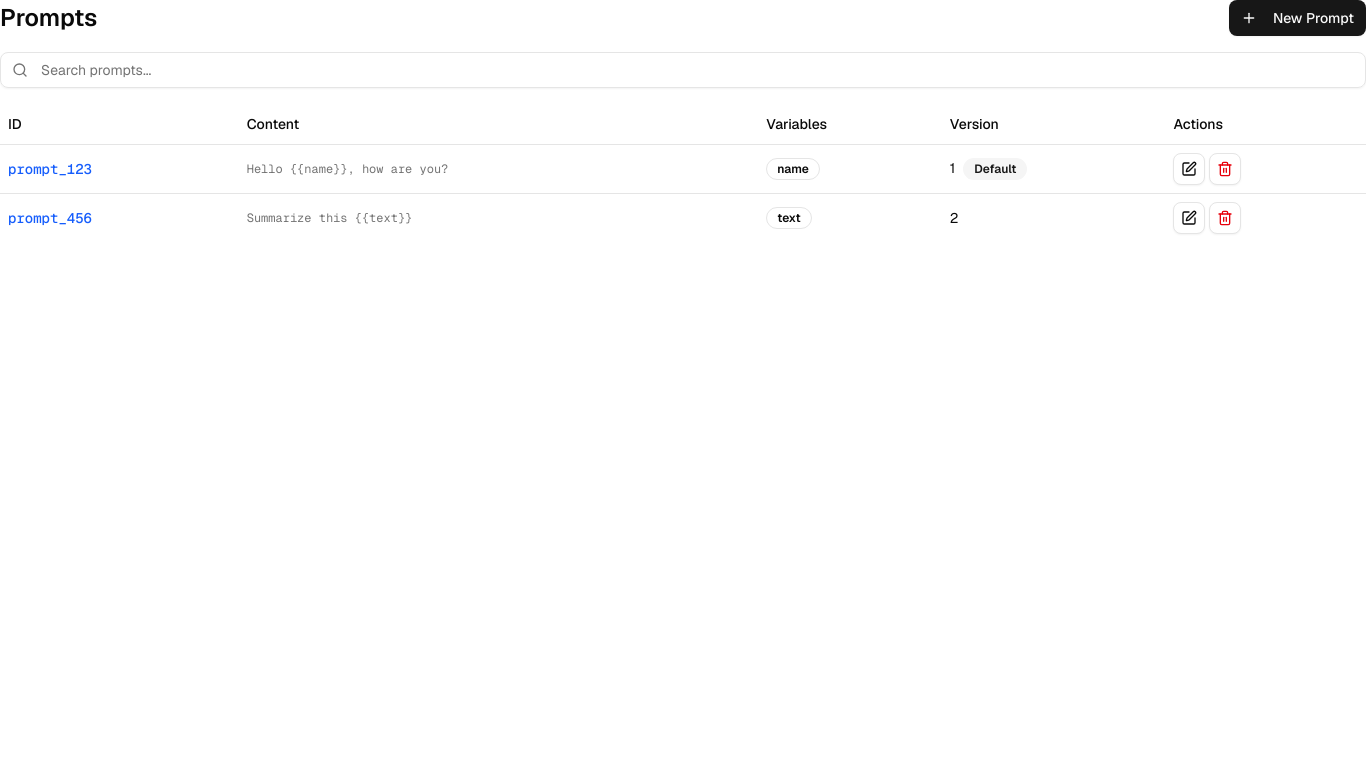
PromptManagement › Prompts List › opens modal when clicking 'New Prompt' button
The width and height of the screenshot is (1366, 768).
Check: the text "prompt_123" is shown, box [8,158,92,178]
Click the button "New Prompt" at (1297, 18), box [1229,0,1365,36]
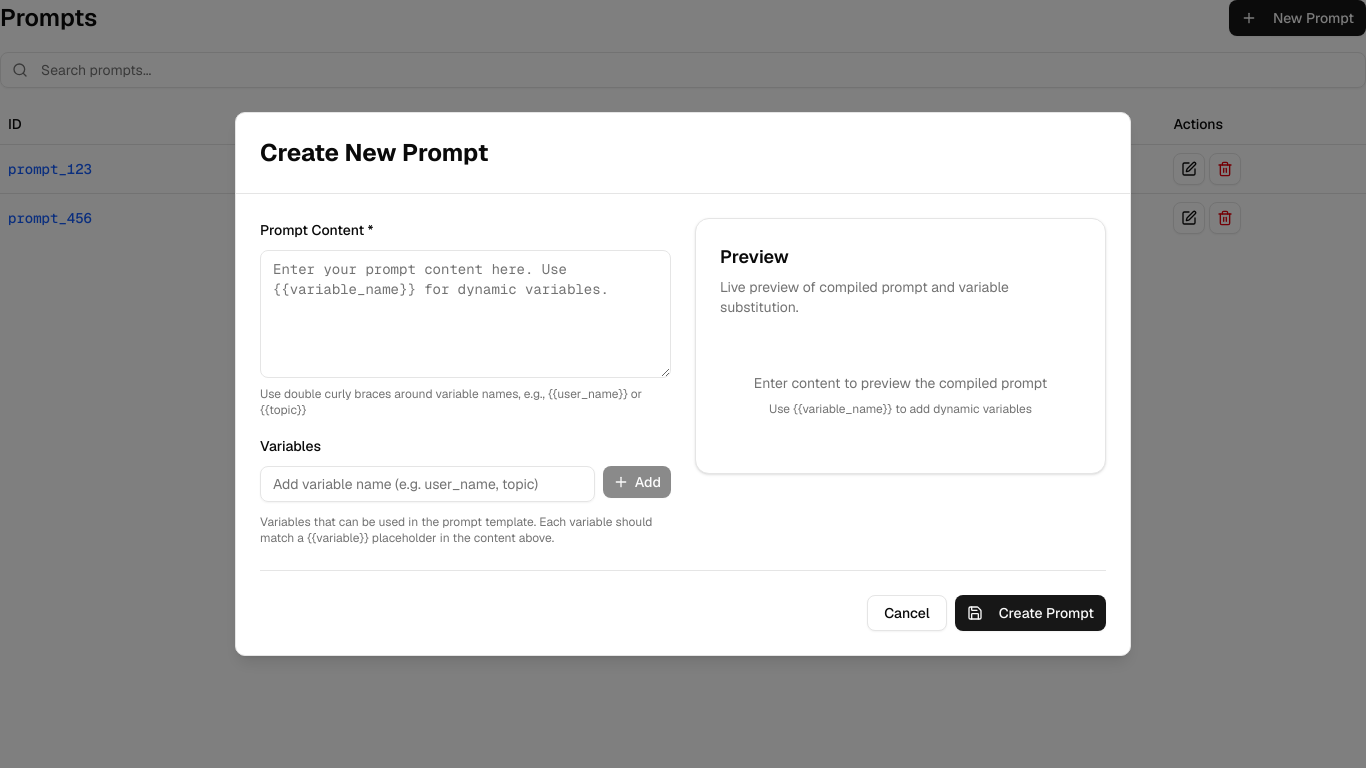
Check: the heading "Create New Prompt" is shown, box [260,137,488,168]
